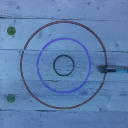Axe Tip: (96, 66, 107, 69)
